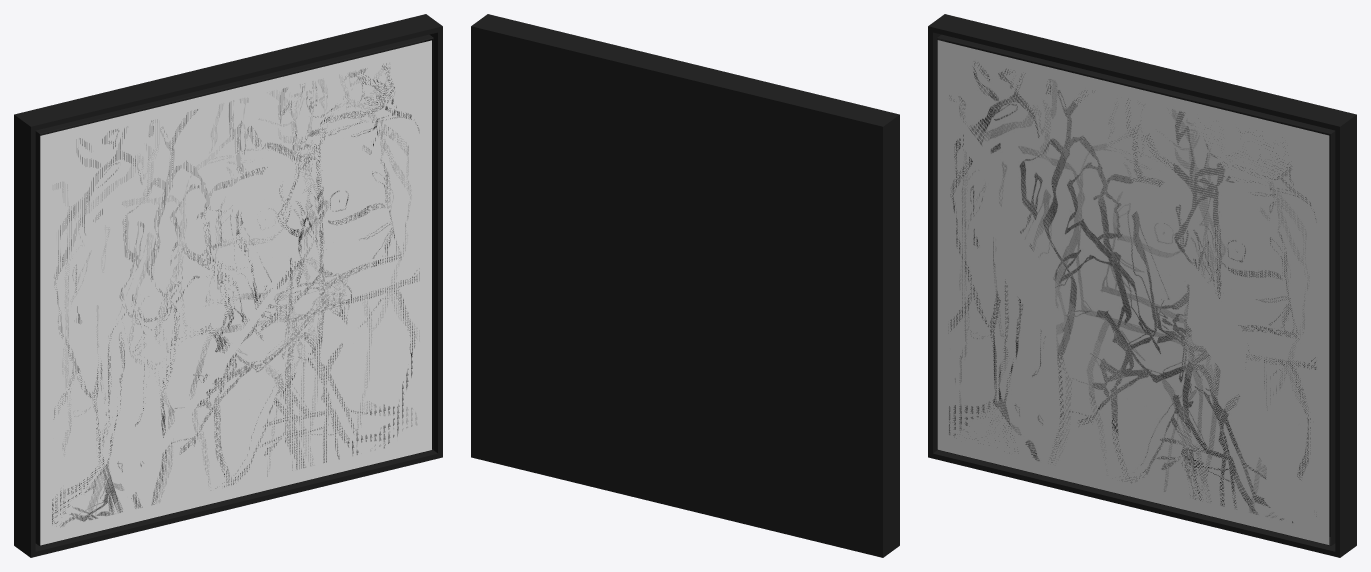
File: art2.dae
The picture shows the model from 3 angles, left to right: view 1: azimuth 30°, elevation 25°; view 2: azimuth 150°, elevation 25°; view 3: azimuth 330°, elevation 25°; orthographic projection.
Parts seen in each view (by area): view 1: group_2, group_1 (×2), group_0; view 2: group_1; view 3: group_2, group_1 (×2), group_0.
Part boxes in pixels (x1,y1,x2,y2): group_2: [40, 40, 431, 545]; group_1 (×2): [14, 14, 442, 557]; group_0: [35, 34, 433, 545]; group_1: [471, 14, 899, 557]; group_2: [937, 40, 1329, 544]; group_1 (×2): [928, 14, 1356, 557]; group_0: [937, 34, 1335, 545].
Size of the model in its own units: 25.2 by 1.77 by 25.2.
3 materials, 1 textured.
